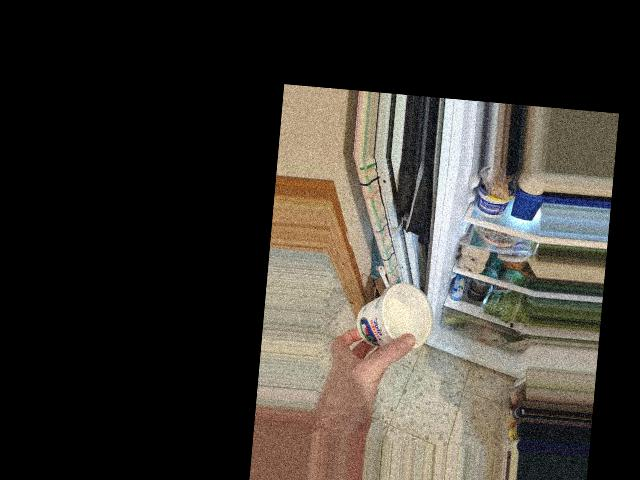cotage: (346, 276, 434, 361)
